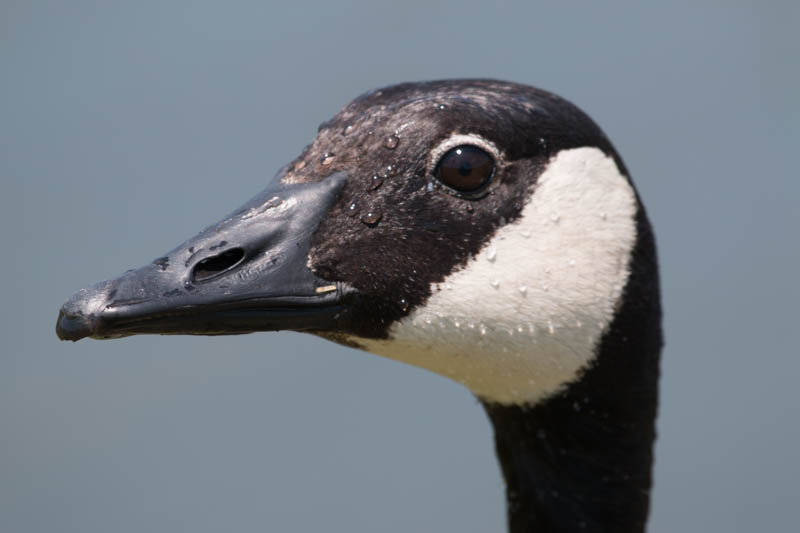goose-head: (55, 79, 663, 409)
